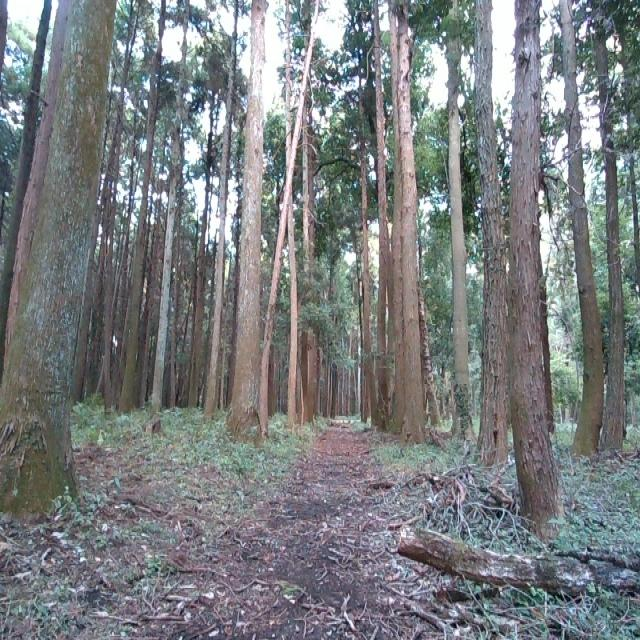tree: (1, 0, 120, 512), (510, 0, 566, 539), (384, 0, 435, 445), (556, 0, 604, 467), (397, 524, 640, 605), (228, 0, 270, 444), (592, 0, 632, 466), (148, 0, 189, 412), (472, 0, 507, 467), (206, 0, 239, 416), (445, 0, 474, 445), (301, 0, 328, 424), (284, 1, 306, 426), (358, 15, 378, 425)
